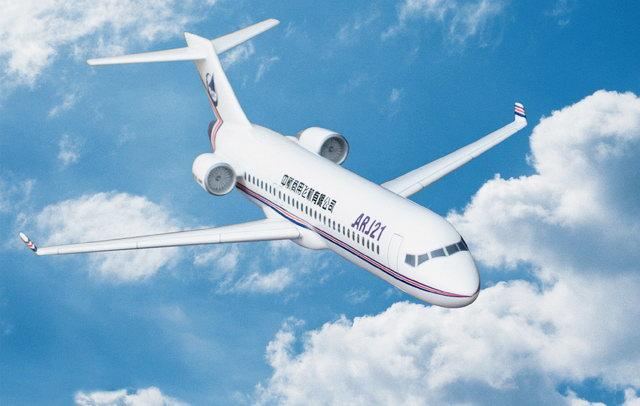airplane: (23, 16, 545, 306)
